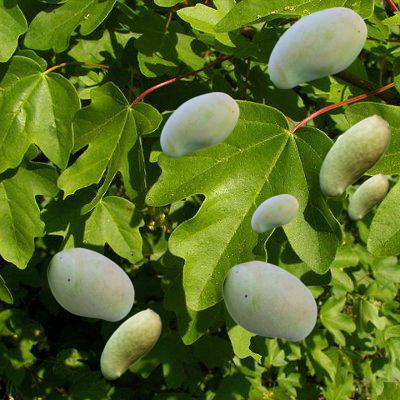green_mango: (268, 7, 366, 87), (222, 260, 316, 340), (47, 247, 133, 320), (319, 114, 389, 196), (160, 92, 238, 156), (100, 308, 160, 378), (348, 173, 387, 219), (251, 194, 297, 231)
